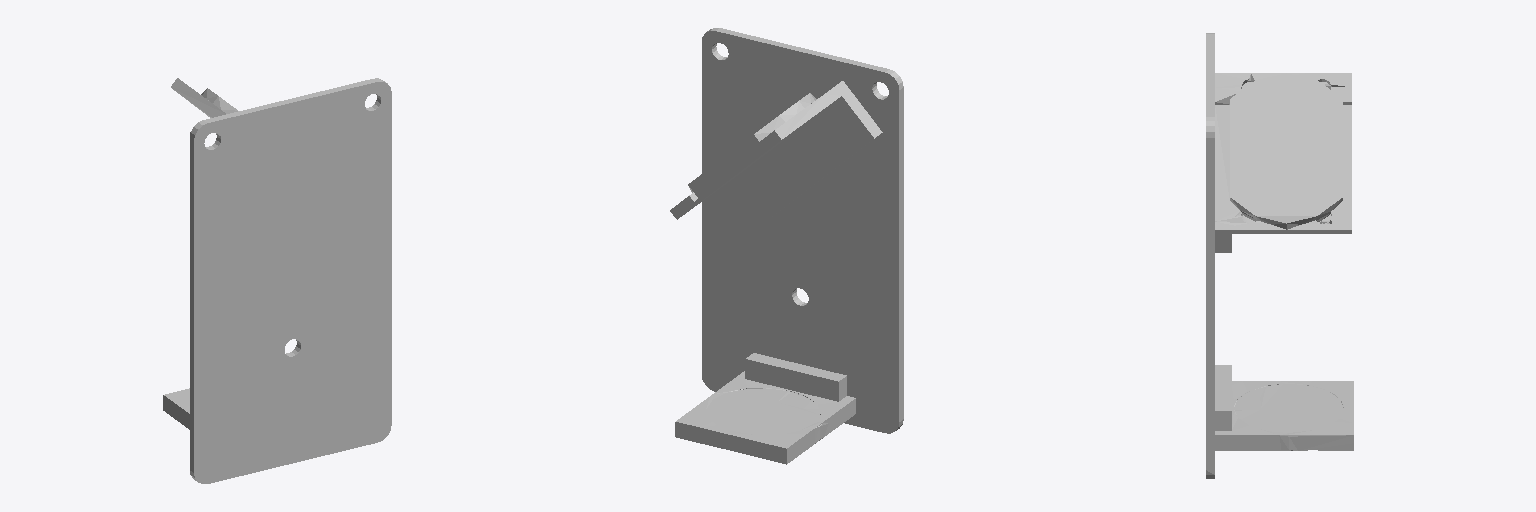
Rendered from mirrorLens.obj.
3 renders of one model, left to right at view 1: azimuth 30°, elevation 25°; view 2: azimuth 150°, elevation 25°; view 3: azimuth 270°, elevation 25°, orthographic.
Parts seen in each view (by area): view 1: object_1; view 2: object_1; view 3: object_1.
Boxes of the visible parts, x1,y1,x2,y2 form: object_1: [163, 78, 391, 483]; object_1: [670, 28, 903, 464]; object_1: [1206, 33, 1353, 478].
Size of the model in its own units: 1.39 by 2.43 by 0.9001.